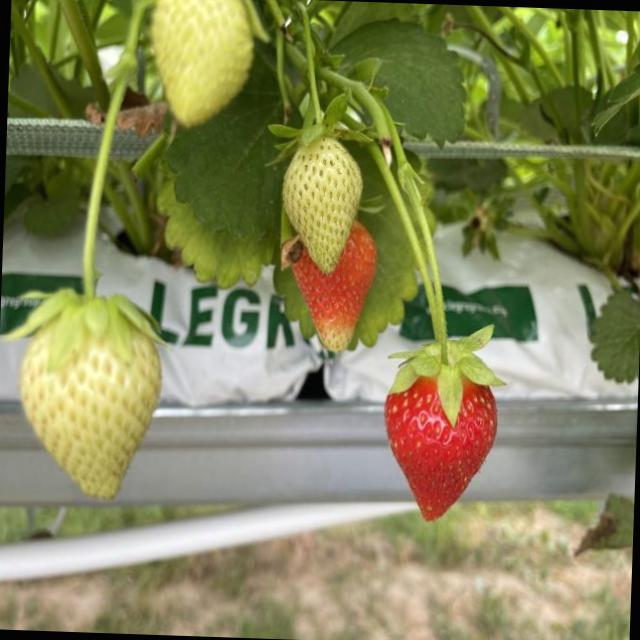stem: (365, 109, 502, 424), (5, 154, 161, 364), (268, 7, 372, 146)
strawberryNR: (19, 325, 161, 497), (148, 0, 253, 125), (282, 136, 363, 273)
strawberryR: (384, 379, 494, 518), (292, 221, 374, 352)
